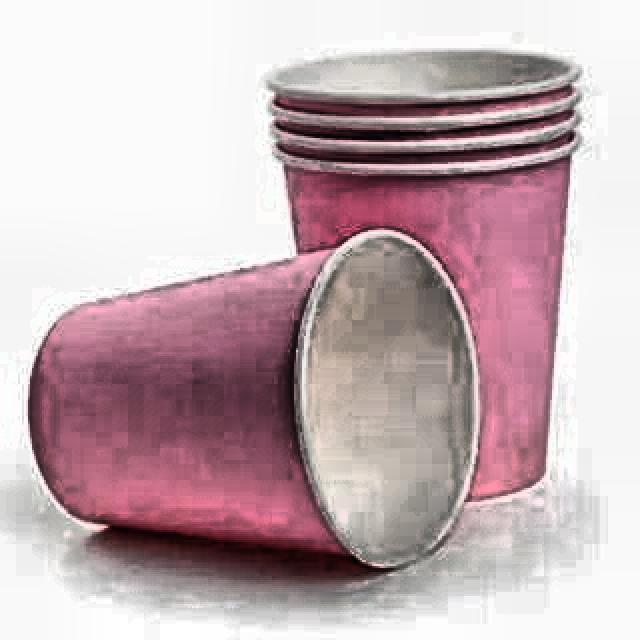Cup: (27, 242, 511, 600), (266, 43, 582, 490)
